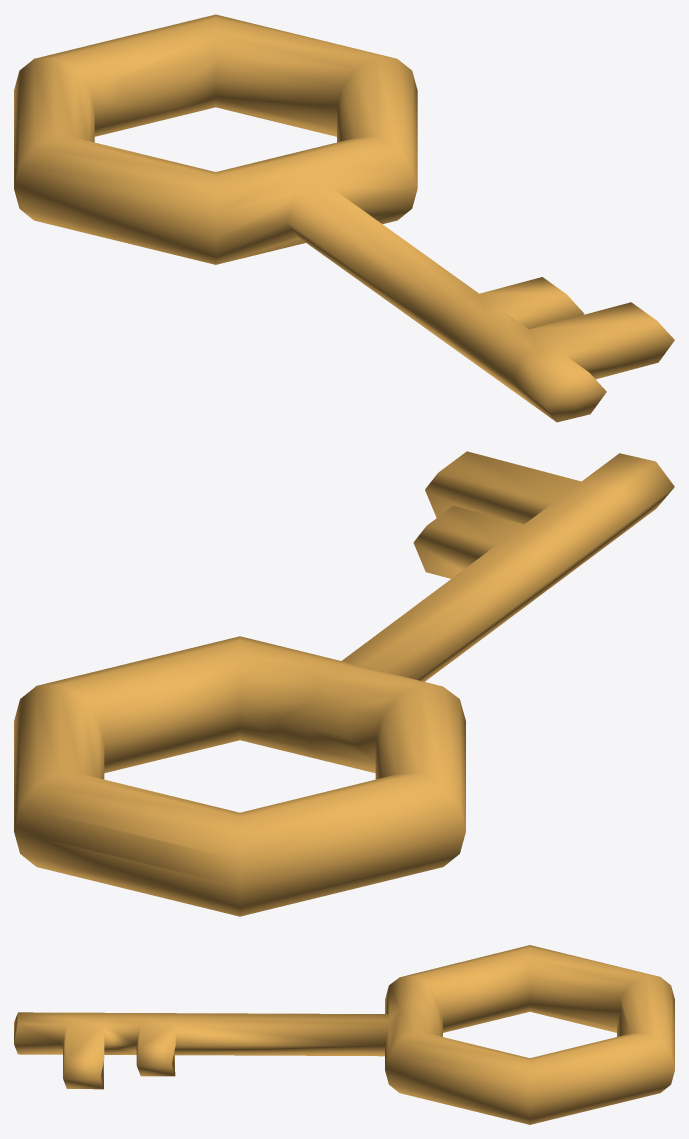
File: Key.fbx
3 views of the same model, one above another, from view 1: azimuth 30°, elevation 25°; view 2: azimuth 150°, elevation 25°; view 3: azimuth 270°, elevation 25° (orthographic). The views are drawn at different scales.
Visible parts, largest first — view 1: Torus; view 2: Torus; view 3: Torus.
Part boxes in pixels (x1=…): Torus: x1=14, y1=14, x2=674, y2=422; Torus: x1=14, y1=451, x2=674, y2=916; Torus: x1=14, y1=945, x2=674, y2=1124.
Bounding box in the file's own units: 2.5 × 4.93 × 0.5.
